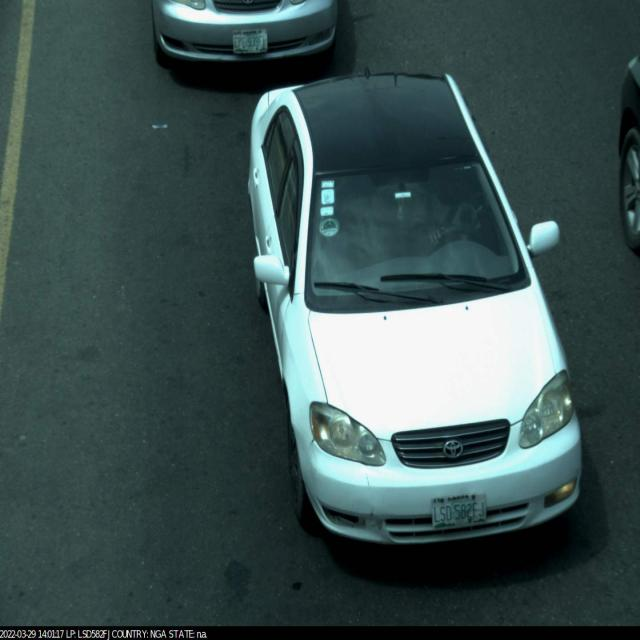windshield: (296, 150, 530, 307)
